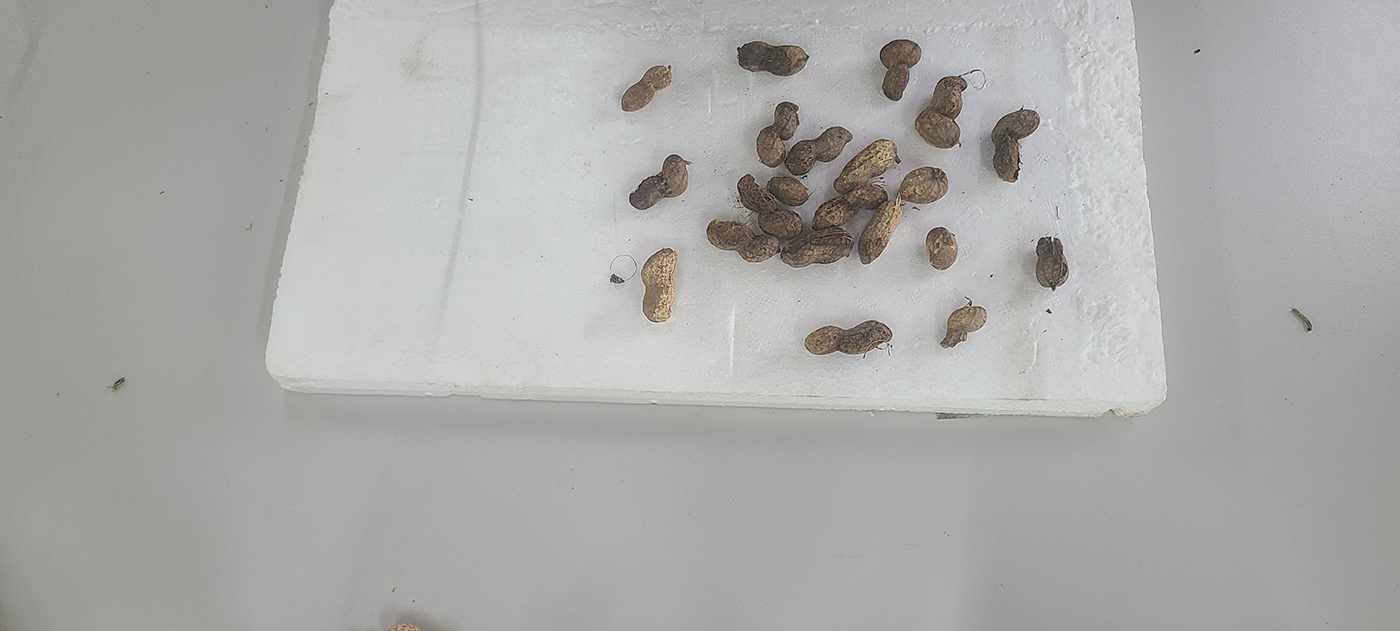l: (736, 175, 802, 239), (914, 75, 967, 148), (991, 108, 1040, 182), (812, 182, 889, 228), (834, 138, 898, 193), (803, 319, 892, 357), (786, 126, 853, 176), (706, 219, 781, 263), (629, 155, 689, 209), (640, 246, 679, 322), (781, 228, 853, 269), (857, 200, 903, 264), (756, 102, 800, 168), (737, 41, 808, 76), (621, 65, 672, 111), (942, 304, 987, 349), (897, 166, 948, 203), (1036, 237, 1069, 289), (926, 228, 958, 270), (880, 38, 922, 70), (769, 176, 808, 206), (882, 64, 910, 101)
